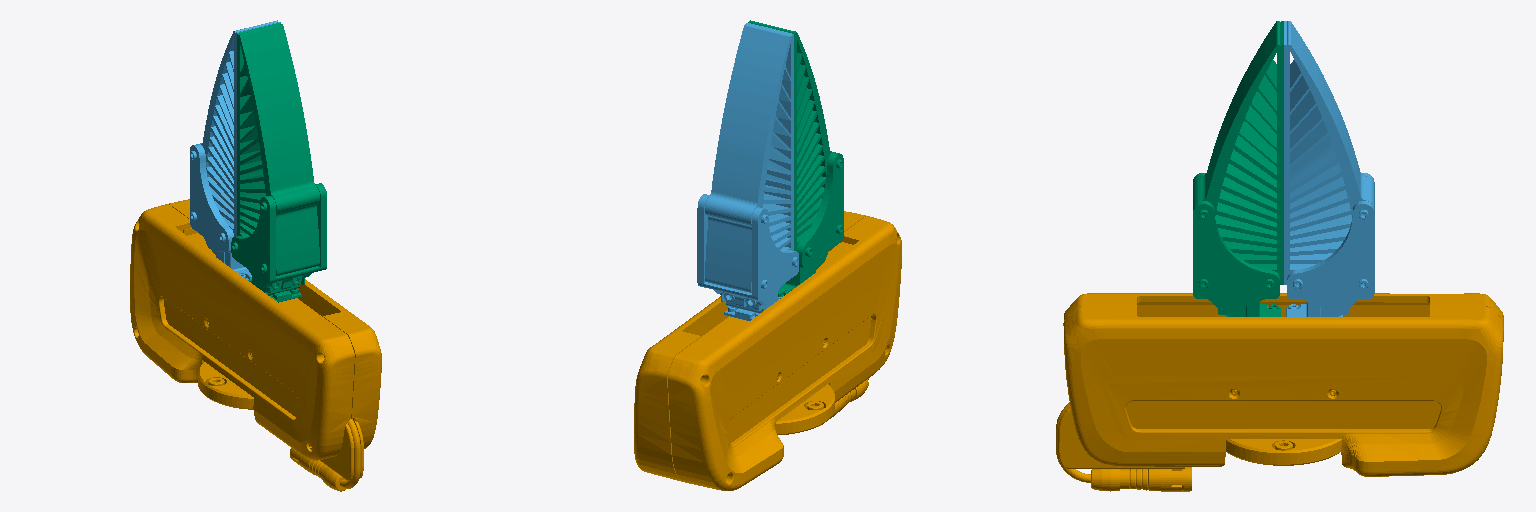
The robot description file, URDF, robot "panda":
<?xml version="1.0" ?>
<!-- =================================================================================== -->
<!-- |    This document was autogenerated by xacro from panda_arm_hand.urdf.xacro      | -->
<!-- |    EDITING THIS FILE BY HAND IS NOT RECOMMENDED                                 | -->
<!-- =================================================================================== -->
<robot name="panda" xmlns:xacro="http://www.ros.org/wiki/xacro">
 
  <link name="panda_hand">
  	<inertial>
      <origin rpy="0 0 0" xyz="0.001540105015344	0.001492254522239	0.002826647554898"/>
       <mass value=".81"/>
       <inertia ixx="0.1" ixy="0" ixz="0" iyy="0.1" iyz="0" izz="0.1"/>
    </inertial>
    <visual>
      <geometry>
        <mesh filename="./meshes/visual/hand.obj"/>
      </geometry>
      <material name="panda_white"/>
    </visual>
    <collision>
      <geometry>
        <mesh filename="./meshes/collision/hand.obj"/>
      </geometry>
      <material name="panda_white"/>
    </collision>
  </link>
  <link name="panda_leftfinger">
    <inertial>
      <mass value="0.099" />
      <origin rpy="0 0 0" xyz="0 0.029 0.0545" />
      <inertia ixx="0.000135" ixy="0.0" ixz="0.0" iyy="0.000128" iyz="0.000012" izz="0.000021" />
    </inertial>
    <visual>
      <!-- Translation chosen so that the finger visuals exactly meet in the
            middle of the gripper just as they do on hardware.
        -->
      <origin rpy="0 0 0" xyz="0 0.01 0" />
      <geometry>
        <mesh filename="franka_fr3/finray_finger_L.obj" scale="1 1 1" />
      </geometry>
    </visual>
    <collision name="finray_finger_L_mount_collision">
      <origin rpy="0 0 -1.57079632679" xyz="0 0.01 0" />
      <geometry>
        <mesh filename="franka_fr3/finray_finger_L_mount_low.obj" scale="1 1 1" />
      </geometry>
    </collision>
    <collision name="finray_finger_L_body_collision">
      <origin rpy="0 0 -1.57079632679" xyz="0 0.01 0" />
      <geometry>
        <mesh filename="franka_fr3/finray_finger_L.obj" scale="1 1 1" />
      </geometry>
    </collision>
  </link>
  <link name="panda_rightfinger">
    <inertial>
      <mass value="0.099" />
      <origin rpy="0 0 0" xyz="0 -0.029 0.0545" />
      <inertia ixx="0.000135" ixy="0.0" ixz="0.0" iyy="0.000128" iyz="-0.000012" izz="0.000021" />
    </inertial>
    <visual>
      <!-- Translation chosen so that the finger visuals exactly meet in the
            middle of the gripper just as they do on hardware.
        -->
      <origin rpy="0 0 0" xyz="0 -0.01 0" />
      <geometry>
        <mesh filename="franka_fr3/finray_finger_R.obj" scale="1 1 1" />
      </geometry>
    </visual>
    <collision name="finray_finger_R_mount_collision">
      <origin rpy="0 0 -1.57079632679" xyz="0 -0.01 0" />
      <geometry>
        <mesh filename="franka_fr3/finray_finger_R_mount_low.obj" scale="1 1 1" />
      </geometry>
    </collision>
    <collision name="finray_finger_R_body_collision">
      <origin rpy="0 0 -1.57079632679" xyz="0 -0.01 0" />
      <geometry>
        <mesh filename="franka_fr3/finray_finger_R.obj" scale="1 1 1" />
      </geometry>
    </collision>
  </link>
  <joint name="panda_finger_joint1" type="prismatic">
    <parent link="panda_hand" />
    <child link="panda_leftfinger" />
    <origin rpy="0 0 0" xyz="0 -0.01 0.0584" />
    <axis xyz="0 1 0" />
    <limit effort="20" lower="0.0" upper="0.041" velocity="0.2" />
  </joint>
  <joint name="panda_finger_joint2" type="prismatic">
    <parent link="panda_hand" />
    <child link="panda_rightfinger" />
    <origin rpy="0 0 0" xyz="0 0.01 0.0584" />
    <axis xyz="0 1 0" />
    <limit effort="20" lower="-0.041" upper="0.0" velocity="0.2" />
  </joint>
  <link name="panda_grasptarget">
    <inertial>
      <origin rpy="0 0 0" xyz="0 0 0"/>
       <mass value="0.0"/>
       <inertia ixx="0.1" ixy="0" ixz="0" iyy="0.1" iyz="0" izz="0.1"/>
    </inertial>
  </link>
  <joint name="panda_grasptarget_hand" type="fixed">
    <parent link="panda_hand"/>
    <child link="panda_grasptarget"/>
    <origin rpy="0 0 0" xyz="0 0 0.105"/>
  </joint>
  
</robot>

--- Render facts (derived) ---
3 views of the same robot in one strip: view 1: azimuth 30°, elevation 25°; view 2: azimuth 150°, elevation 25°; view 3: azimuth 270°, elevation 25° (orthographic).
Model panda with 4 links and 3 joints (2 prismatic, 1 fixed), rooted at panda_hand, posed all joints at 0.
Visible links, largest first — view 1: panda_hand, panda_rightfinger, panda_leftfinger; view 2: panda_hand, panda_leftfinger, panda_rightfinger; view 3: panda_hand, panda_rightfinger, panda_leftfinger.
Link boxes in pixels (bbox=[...]): panda_hand: bbox=[130, 199, 381, 491]; panda_rightfinger: bbox=[231, 22, 326, 302]; panda_leftfinger: bbox=[190, 20, 279, 279]; panda_hand: bbox=[634, 211, 901, 490]; panda_leftfinger: bbox=[697, 23, 798, 320]; panda_rightfinger: bbox=[748, 20, 843, 296]; panda_hand: bbox=[1056, 293, 1503, 491]; panda_rightfinger: bbox=[1193, 21, 1283, 316]; panda_leftfinger: bbox=[1284, 21, 1374, 316].
Bounding box of the posed robot: 0.0627 × 0.2046 × 0.2306 m (x, y, z).
3 mesh visuals loaded from 3 distinct referenced files (3 OBJ).